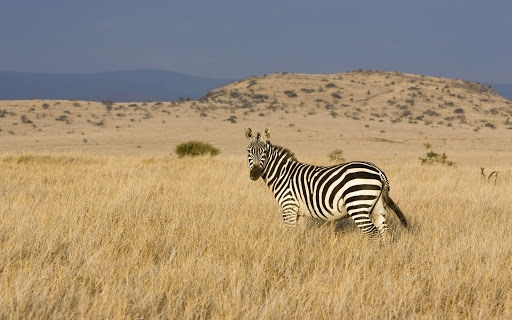zebra: (242, 122, 408, 245)
